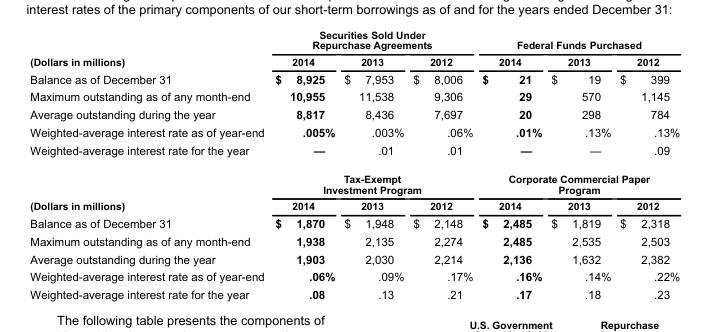table: (29, 28, 679, 300)
table column: (29, 28, 269, 300), (269, 28, 338, 300), (338, 28, 407, 300), (407, 28, 476, 300), (476, 28, 545, 300), (545, 28, 614, 300), (614, 28, 679, 300)
table column header: (29, 28, 679, 69)
table row: (29, 164, 679, 197), (29, 28, 679, 53), (29, 141, 679, 164), (29, 69, 679, 87), (29, 87, 679, 105), (29, 105, 679, 123), (29, 123, 679, 141), (29, 213, 679, 231), (29, 231, 679, 249), (29, 249, 679, 267), (29, 267, 679, 285), (29, 53, 679, 69), (29, 197, 679, 213), (29, 285, 679, 300)
table spanning cell: (29, 28, 269, 69), (269, 164, 476, 197), (476, 164, 679, 197), (269, 28, 476, 53), (476, 28, 679, 53)
